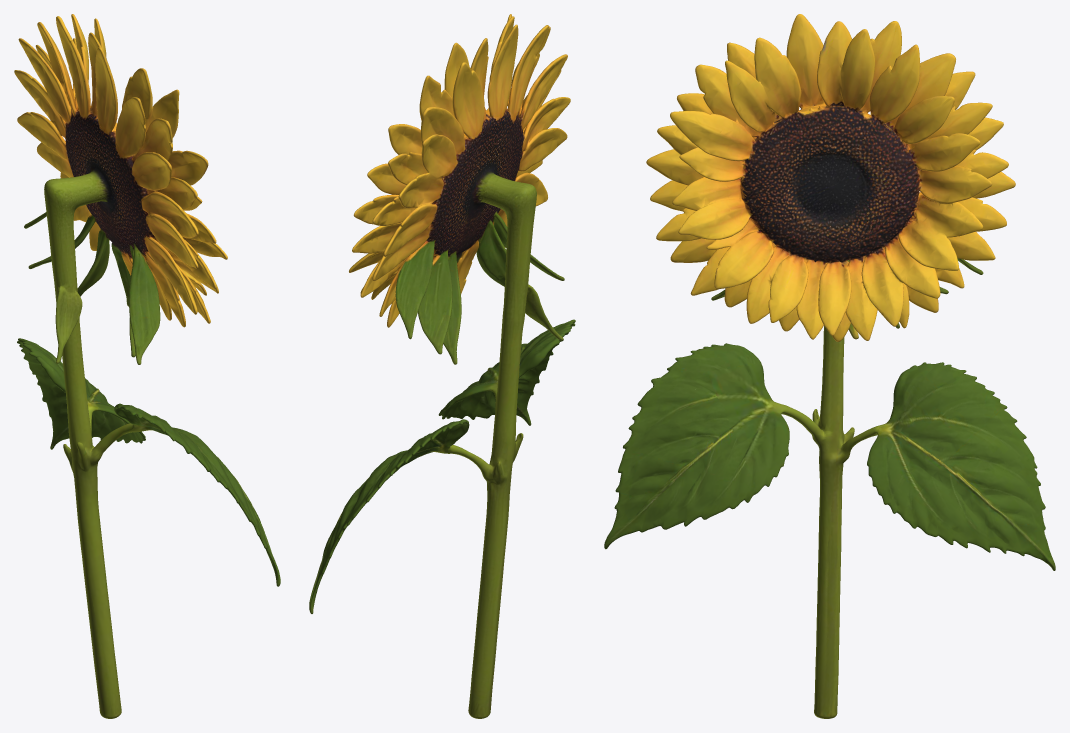
Rendered from sunflower.glb.
3 renders of one model, left to right at view 1: azimuth 30°, elevation 25°; view 2: azimuth 150°, elevation 25°; view 3: azimuth 270°, elevation 25°, orthographic.
Visible parts, largest first — view 1: tripo_node_86d3e54d-0a2e-473b-885d-3f293efc70c4; view 2: tripo_node_86d3e54d-0a2e-473b-885d-3f293efc70c4; view 3: tripo_node_86d3e54d-0a2e-473b-885d-3f293efc70c4.
Part boxes in pixels (<box>): tripo_node_86d3e54d-0a2e-473b-885d-3f293efc70c4: <box>14,14,280,718</box>; tripo_node_86d3e54d-0a2e-473b-885d-3f293efc70c4: <box>309,14,575,718</box>; tripo_node_86d3e54d-0a2e-473b-885d-3f293efc70c4: <box>604,14,1055,718</box>.
Size of the model in its own units: 0.2265 by 0.9999 by 0.5915.
Materials: 1 (1 with a texture image).
